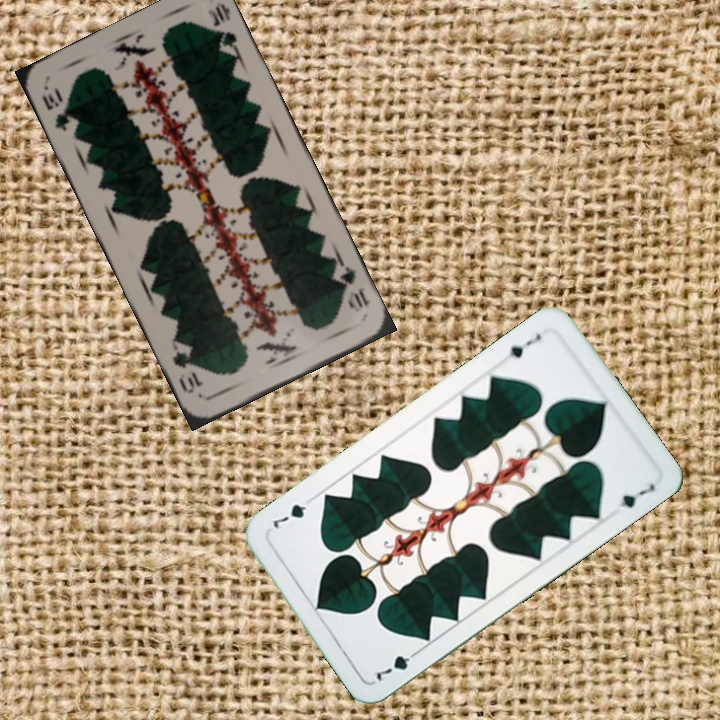G10: (333, 261, 374, 311), (37, 84, 77, 134)
G7: (372, 645, 423, 684), (505, 329, 544, 361)
